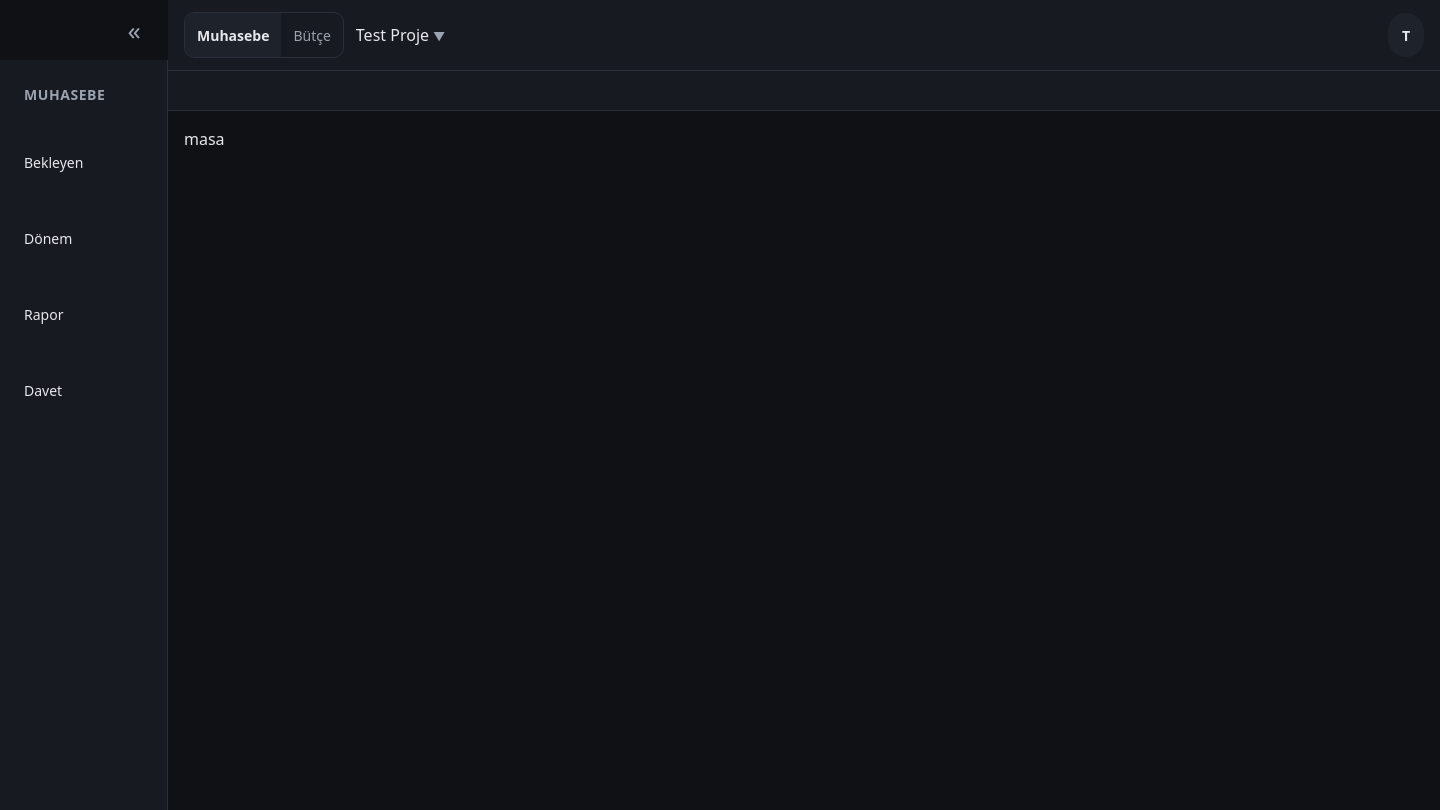
AppShell — sol ray daraltma dugmesi › dugmeye basinca ray kapanir, duraklar kaybolur, aria degerleri degisir
Step 1. Click the button named "Rayı kapat" → click(134, 30), box [112,8,156,52]
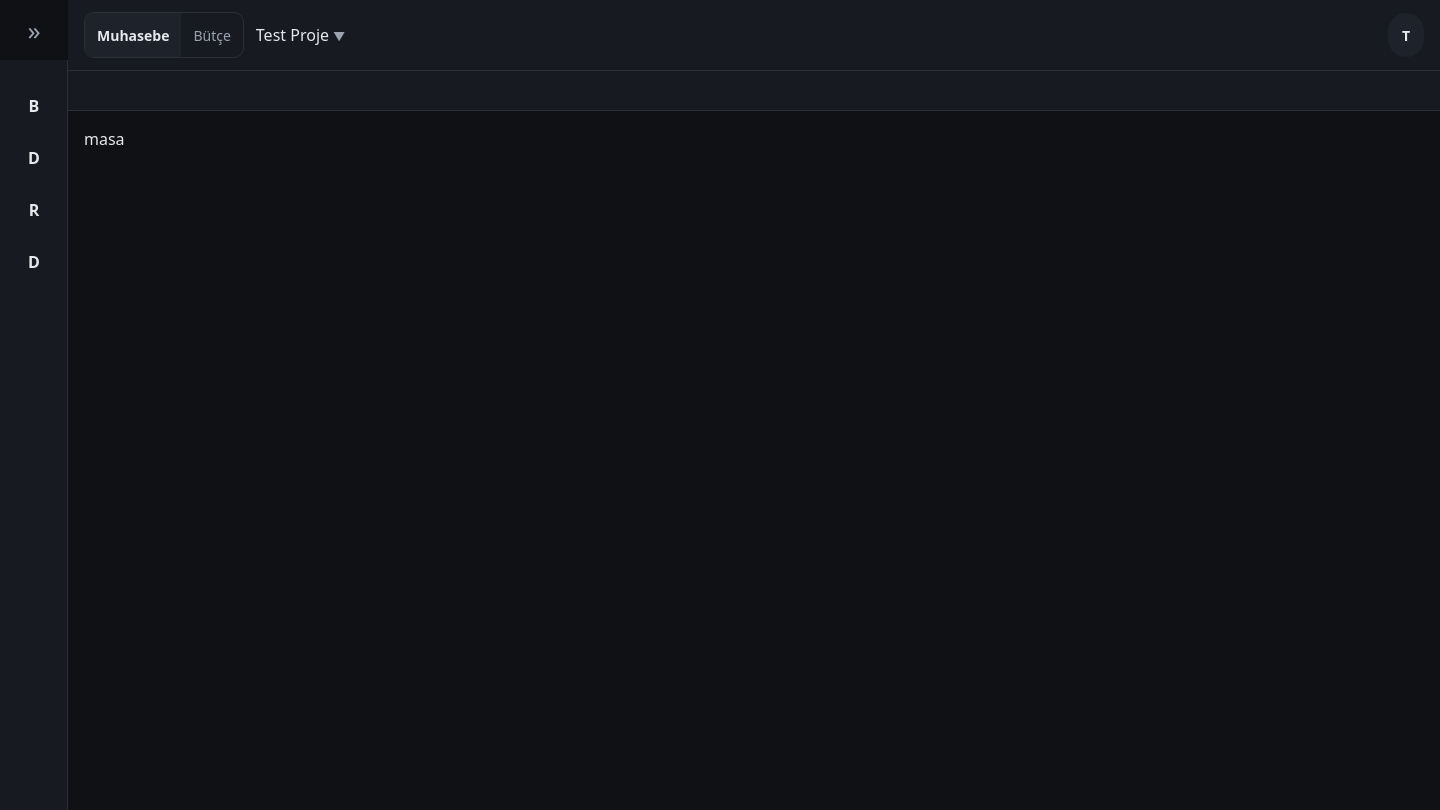
Check: the link "Bekleyen" is gone
Check: the button named "Rayı aç" is collapsed, box [12,8,56,52]
